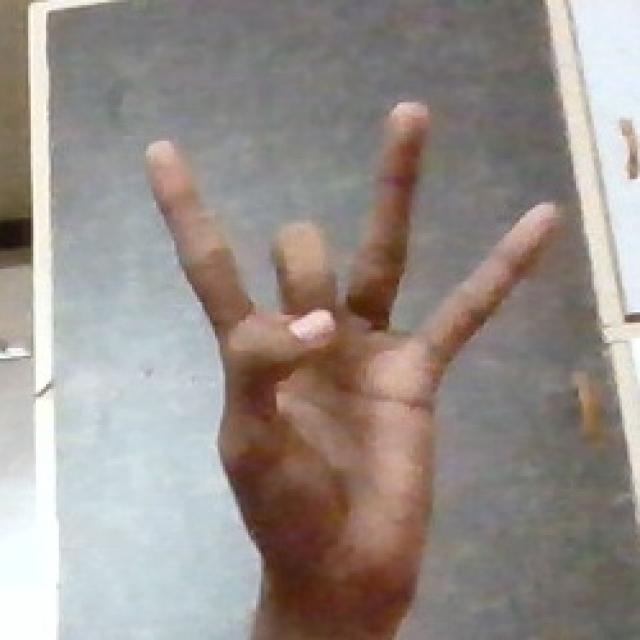Numeric-8: (144, 97, 564, 607)
